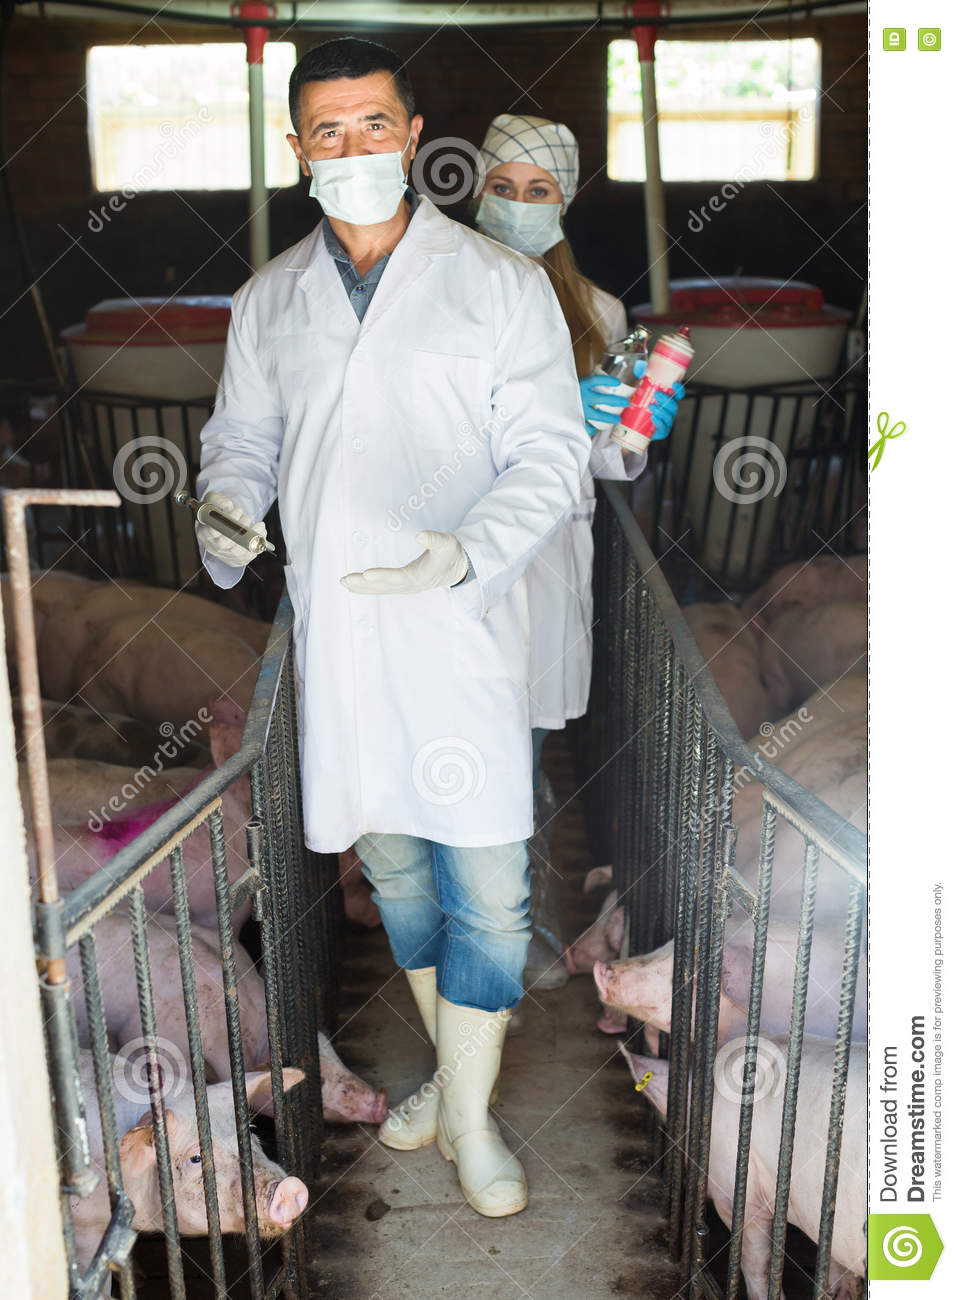mask: (304, 151, 422, 233), (488, 189, 570, 259)
